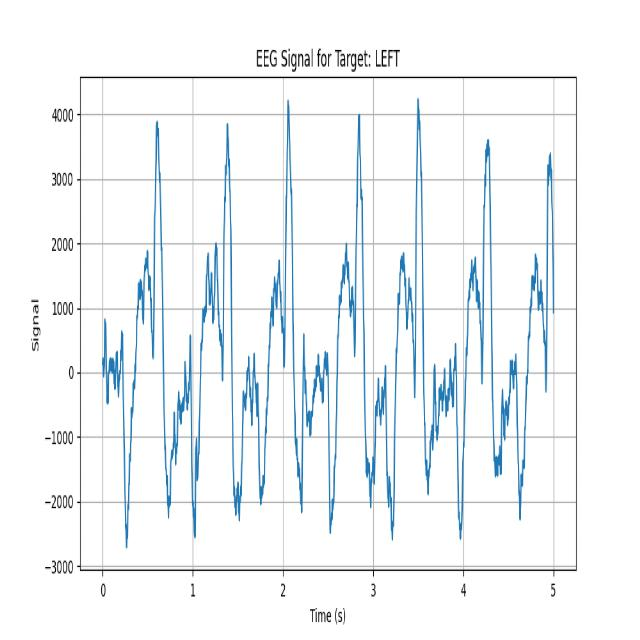LEFT: (251, 103, 322, 542), (109, 110, 182, 536), (321, 96, 388, 551), (182, 106, 251, 542), (448, 93, 512, 554), (387, 95, 446, 559), (512, 86, 569, 551)
